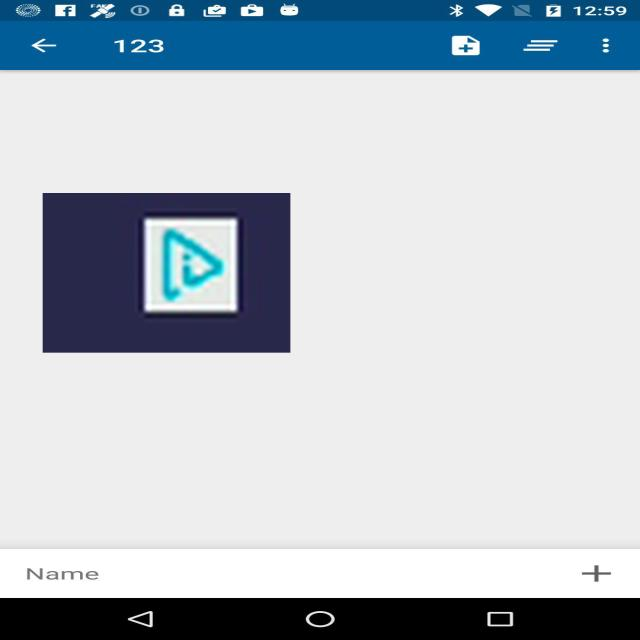sneaking: (43, 193, 290, 353)
